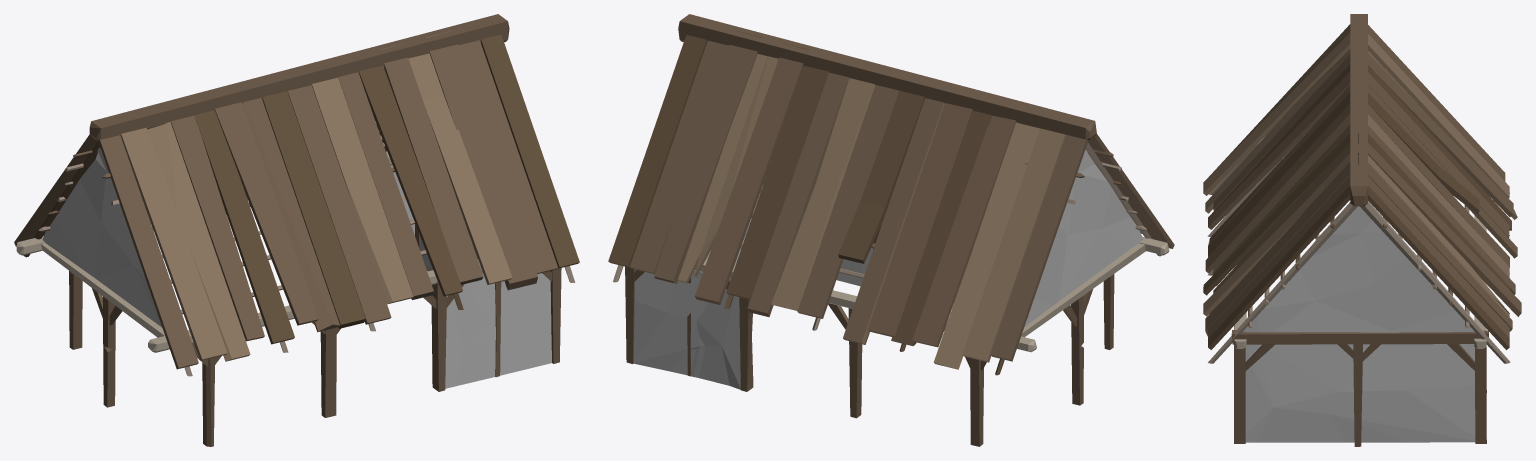
File: EA03_Village_OutBuilding_Shed_01a.glb
3 views of the same model, side by side, from view 1: azimuth 30°, elevation 25°; view 2: azimuth 150°, elevation 25°; view 3: azimuth 270°, elevation 25° (orthographic). The views are drawn at different scales.
Parts seen in each view (by area): view 1: EA03_Village_OutBuilding_Shed_01a; view 2: EA03_Village_OutBuilding_Shed_01a; view 3: EA03_Village_OutBuilding_Shed_01a.
Part boxes in pixels (x1=…): EA03_Village_OutBuilding_Shed_01a: x1=14, y1=14, x2=579, y2=446; EA03_Village_OutBuilding_Shed_01a: x1=608, y1=14, x2=1174, y2=446; EA03_Village_OutBuilding_Shed_01a: x1=1203, y1=14, x2=1521, y2=446.
Size of the model in its own units: 11.14 by 7.38 by 8.06.
Materials: 1 (1 with a texture image).
